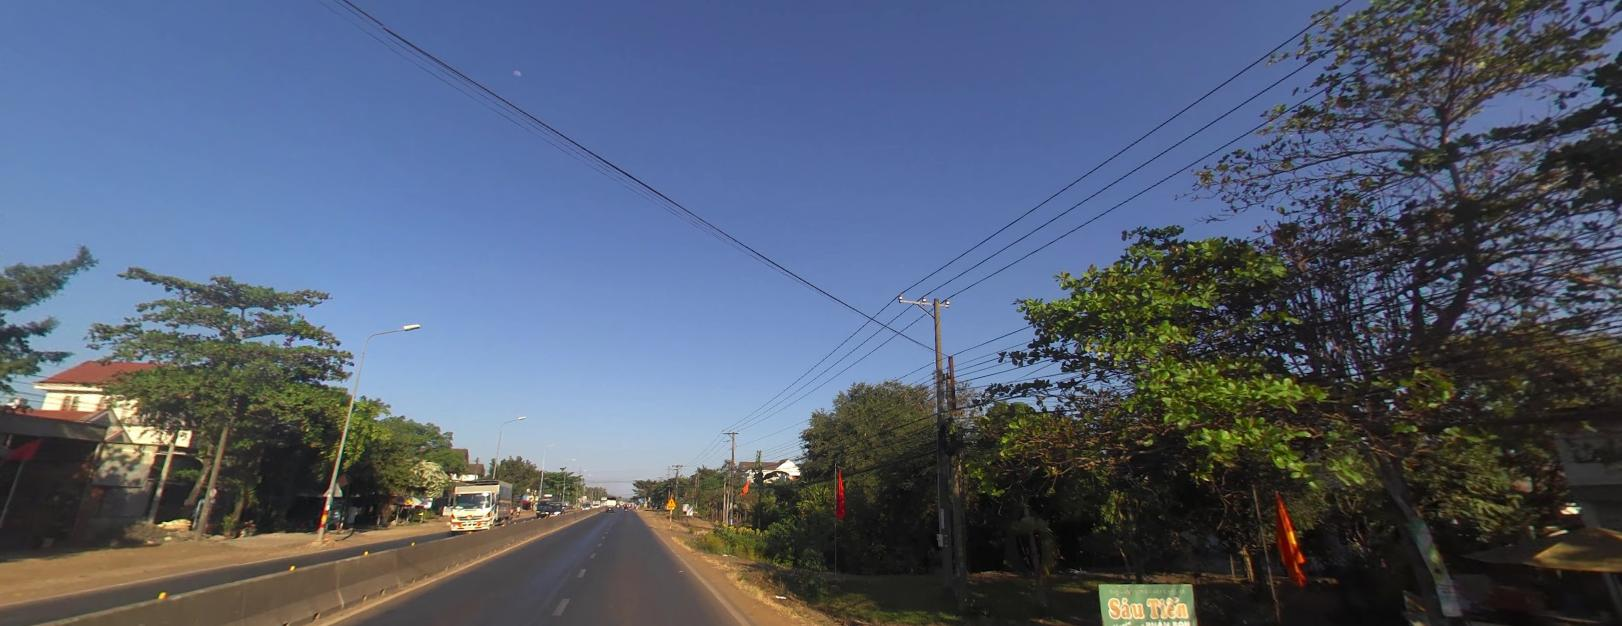Nguy hiem: (665, 495, 677, 505)
